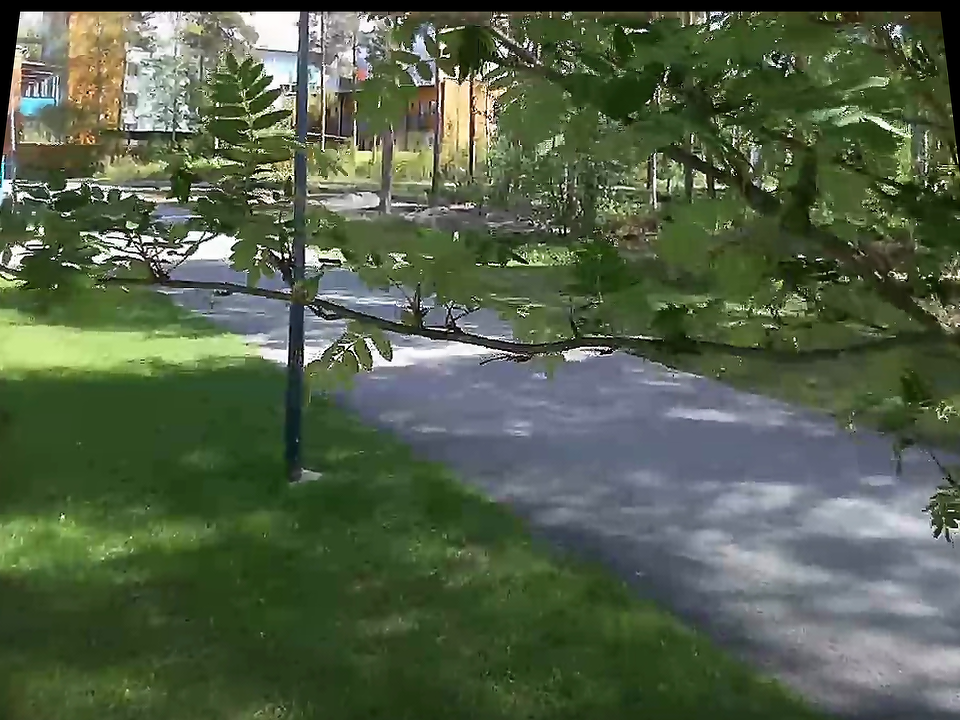branch: (208, 271, 893, 373)
trunk: (278, 43, 320, 492)
